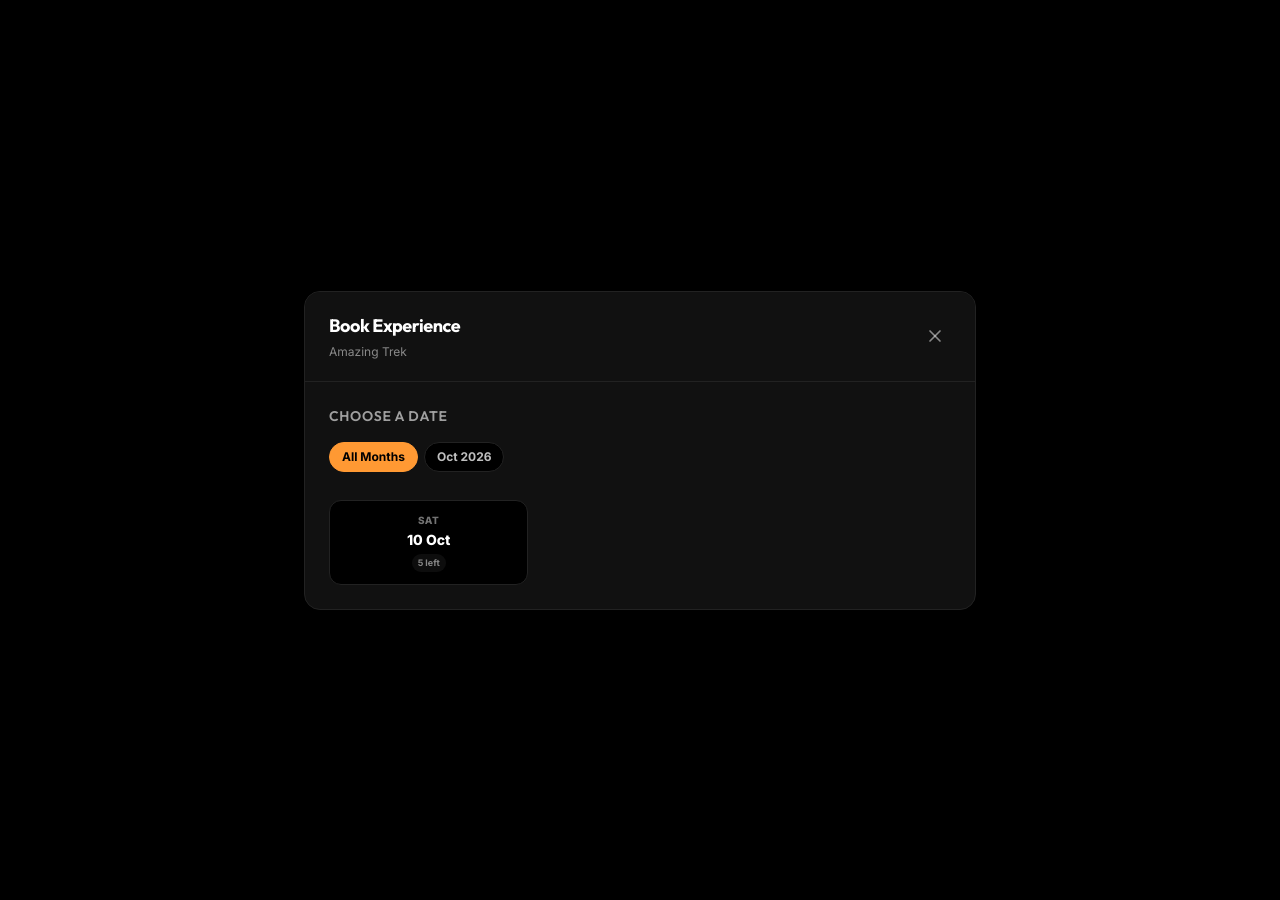
Test: BookingModal Smoke Test › calculates correct total price with multiple participants
// Select slot
Click the text "5 left" at (429, 563), box [412,554,446,572]
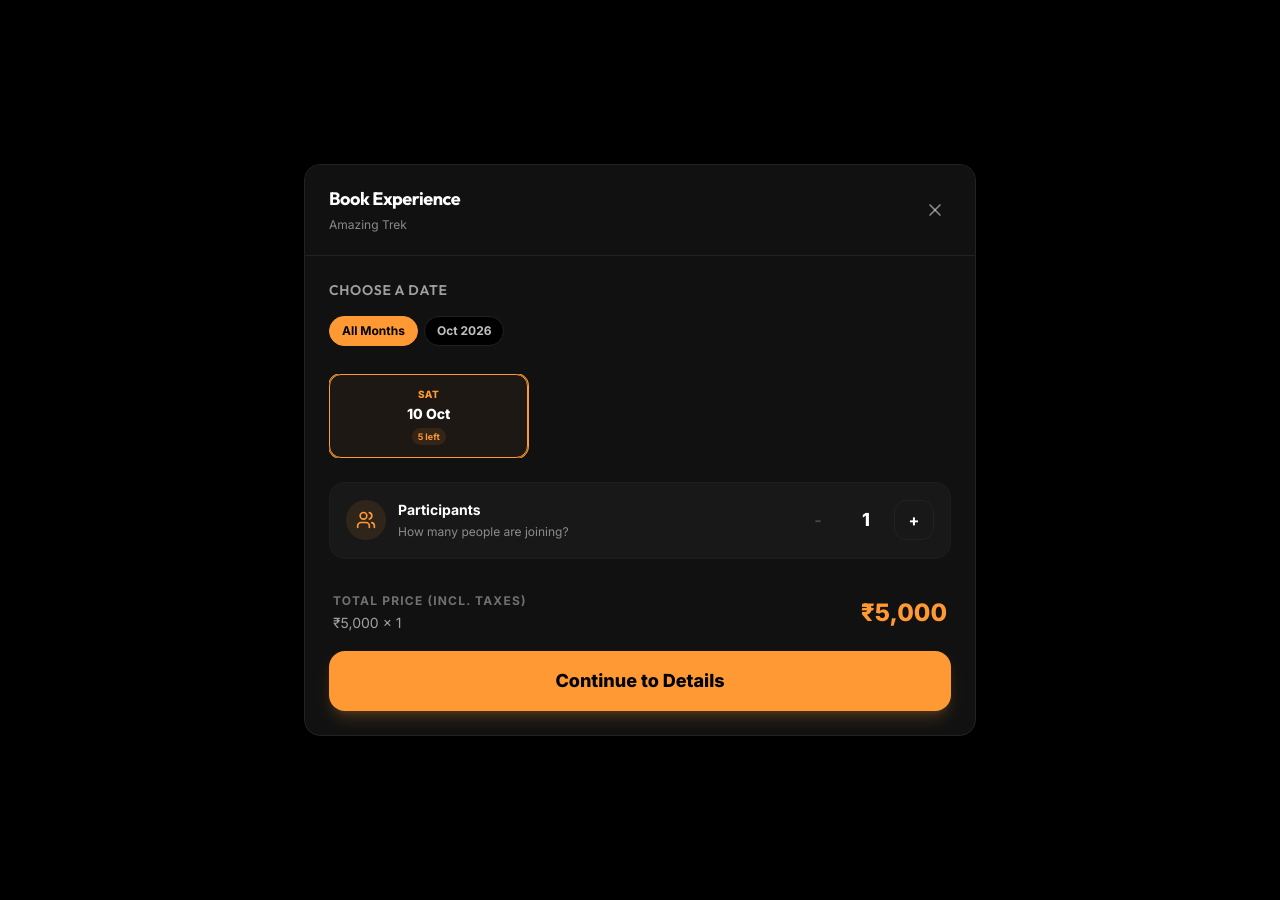
Now the text "₹5,000 × 1" is shown, box [333,614,402,631]
Click the button "+" at (914, 520), box [894,500,934,540]
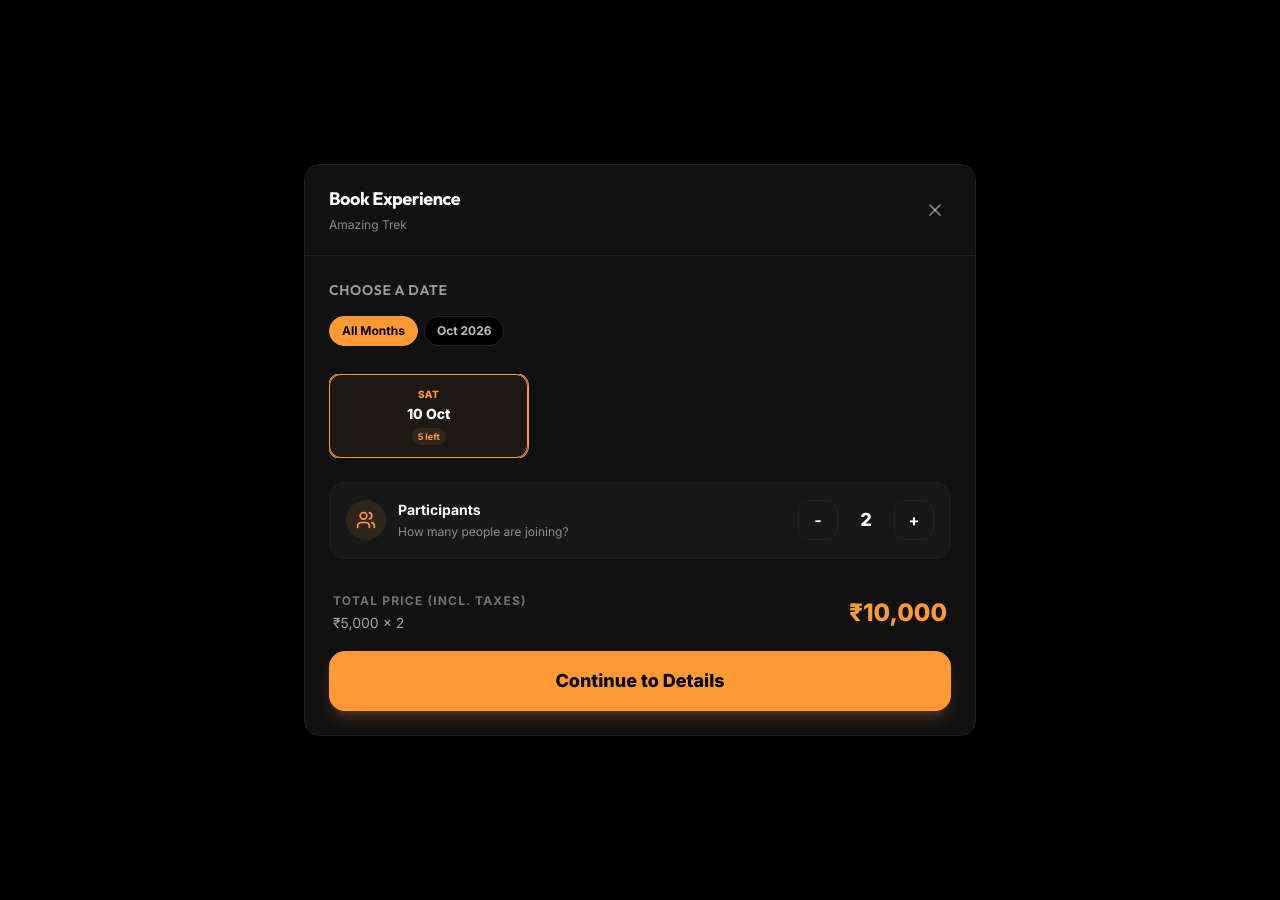
Now the text "₹10,000" is shown, box [849,597,947,629]
